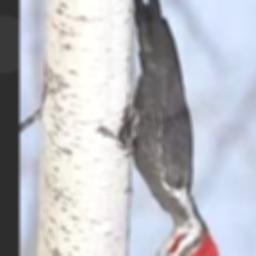Woodpecker: (122, 0, 219, 256)
